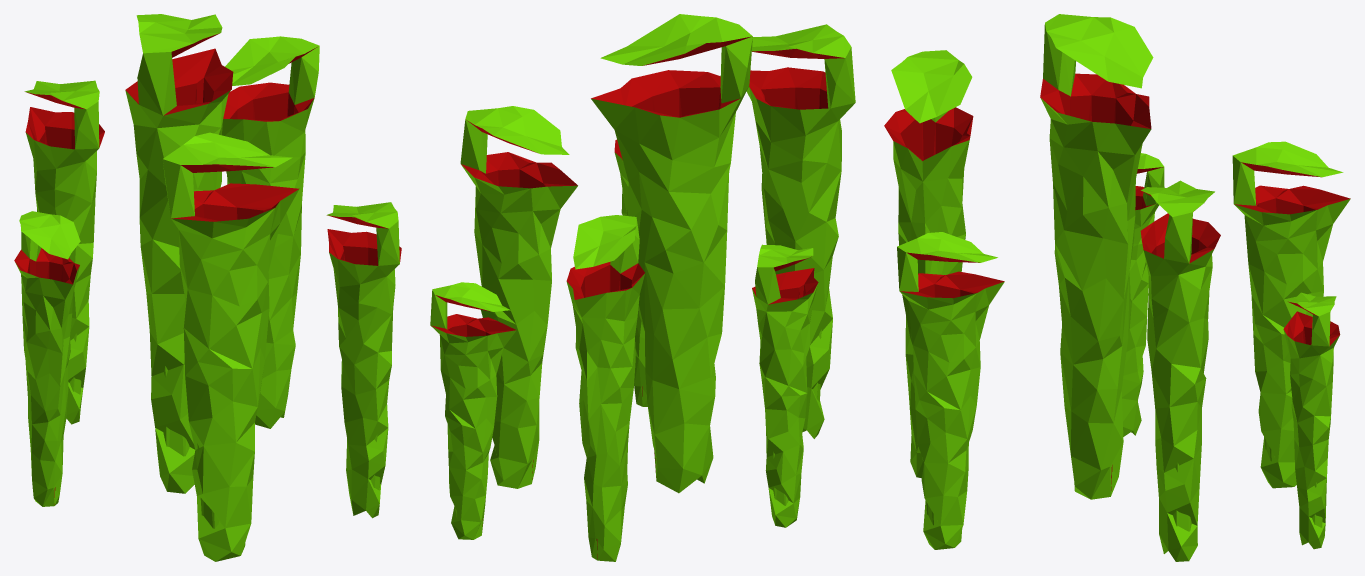
The model's file is stm_env_PlantCylinder.fbx.
3 views of the same model, side by side, from view 1: azimuth 30°, elevation 25°; view 2: azimuth 150°, elevation 25°; view 3: azimuth 270°, elevation 25° (orthographic). The views are drawn at different scales.
Parts seen in each view (by area): view 1: Plant; view 2: Plant; view 3: Plant.
Part boxes in pixels (x1,y1,x2,y2): Plant: [14, 14, 401, 561]; Plant: [430, 14, 855, 561]; Plant: [884, 14, 1350, 561].
Bounding box in the file's own units: 279 × 380 × 349.
